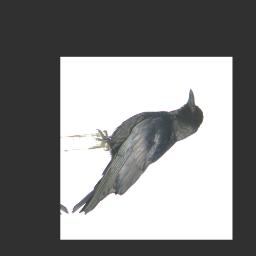Crow: (63, 86, 210, 216)
